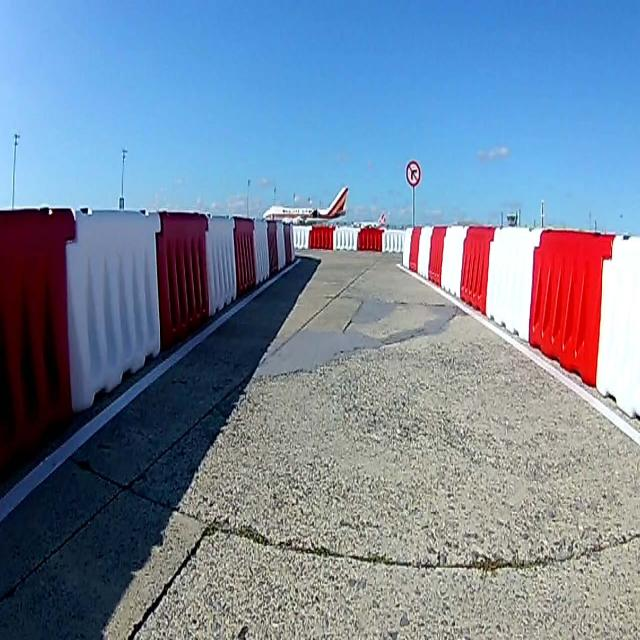sagadonulmez: (406, 162, 421, 186)
